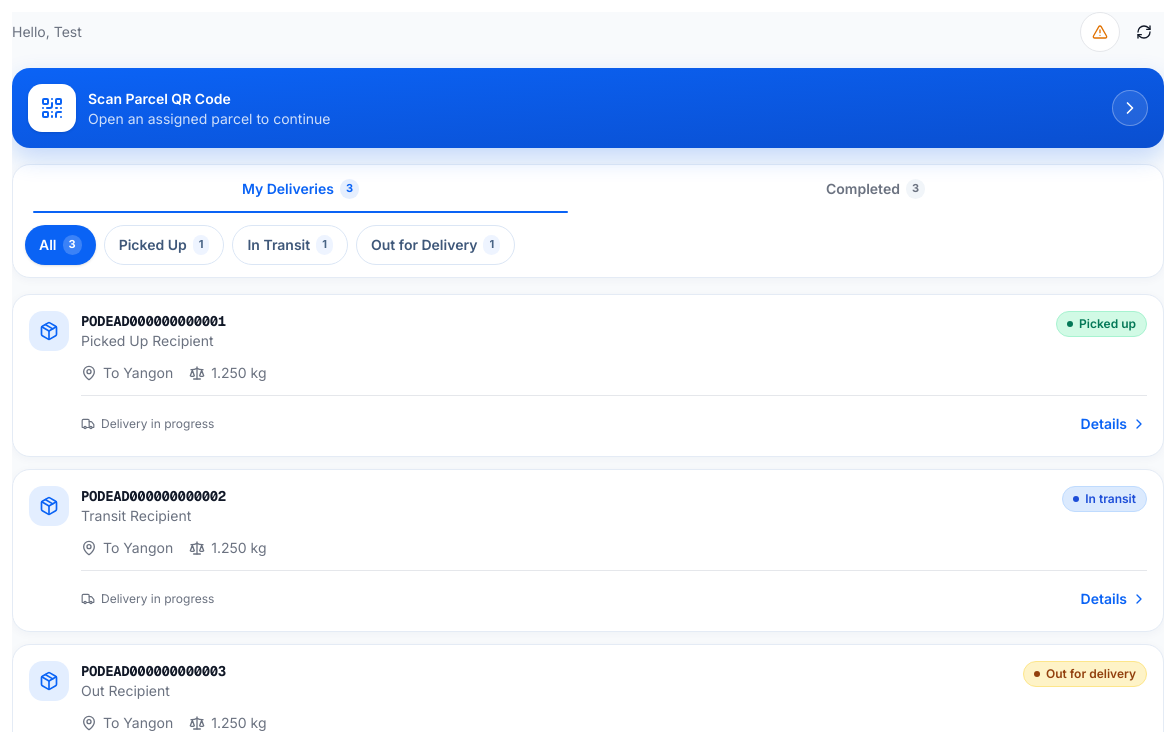
Test: requests active and completed server groups with full-dataset chip counts
Expected: the text "Picked Up Recipient" is shown, [81, 331, 226, 351]
Expected: the tab with aria-label "My Deliveries, 3 deliveries" is shown, [13, 165, 588, 213]
Click the button with aria-label "In Transit, 1 delivery".
click(290, 245)  # box [232, 225, 348, 265]
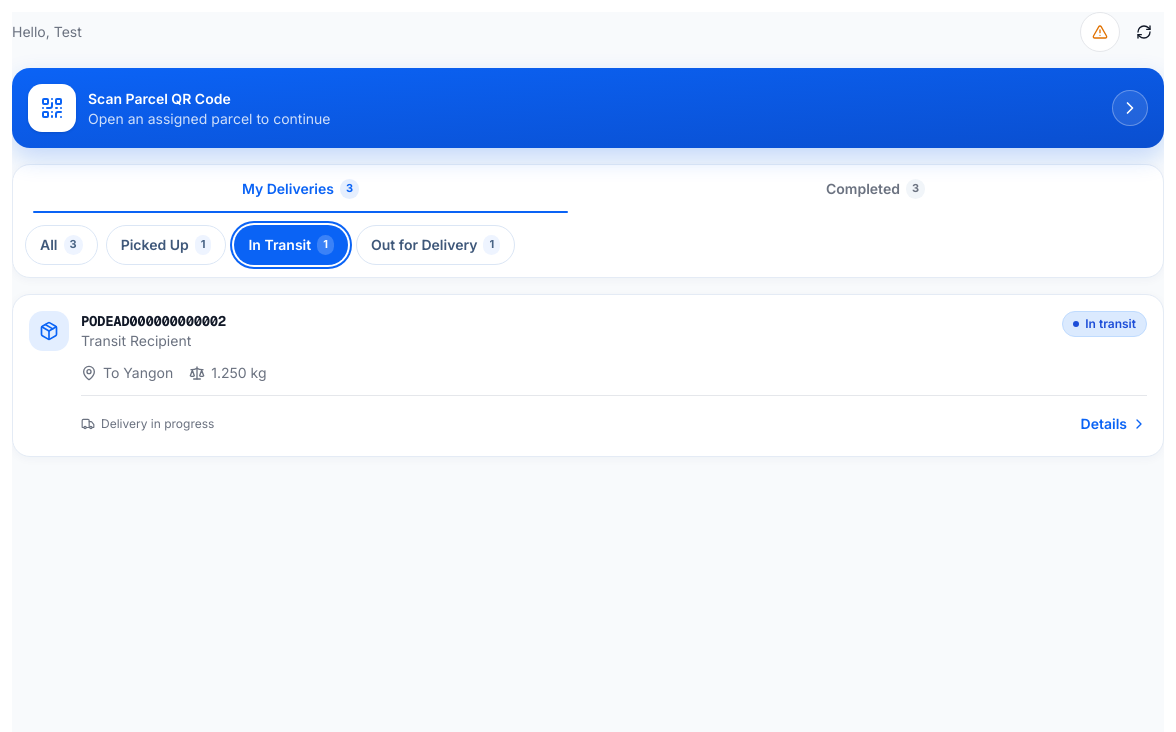
Expected: the text "Transit Recipient" is shown, [81, 332, 191, 349]
Now the link "Picked Up Recipient" is gone
Click the tab "Completed 3".
click(876, 189)  # box [588, 165, 1163, 213]
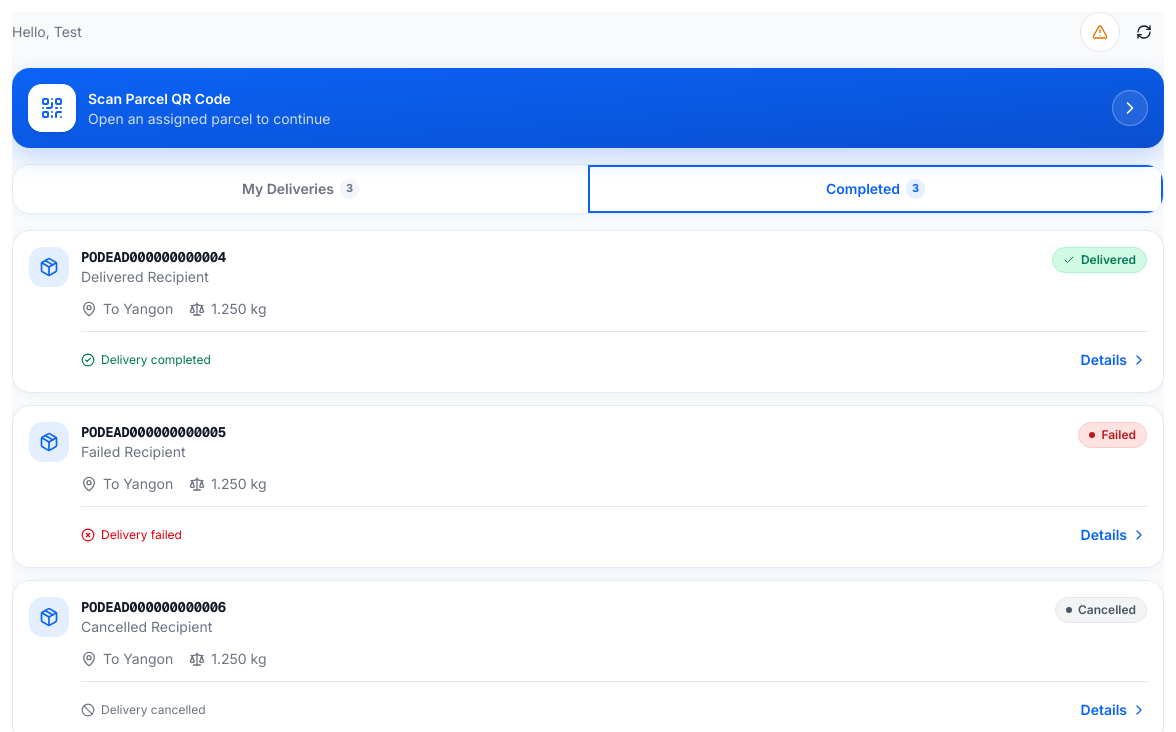
Now the text "Delivered Recipient" is shown, box [81, 267, 226, 287]
